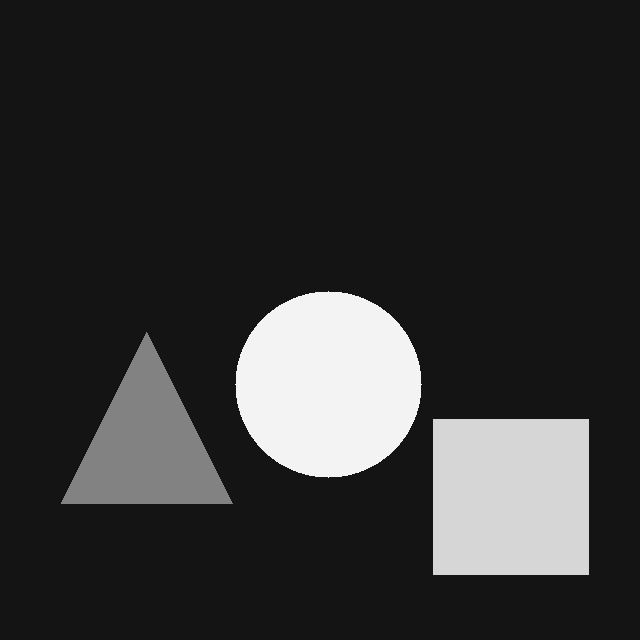circle: (235, 291, 421, 477)
square: (433, 419, 588, 574)
triangle: (61, 332, 232, 503)
